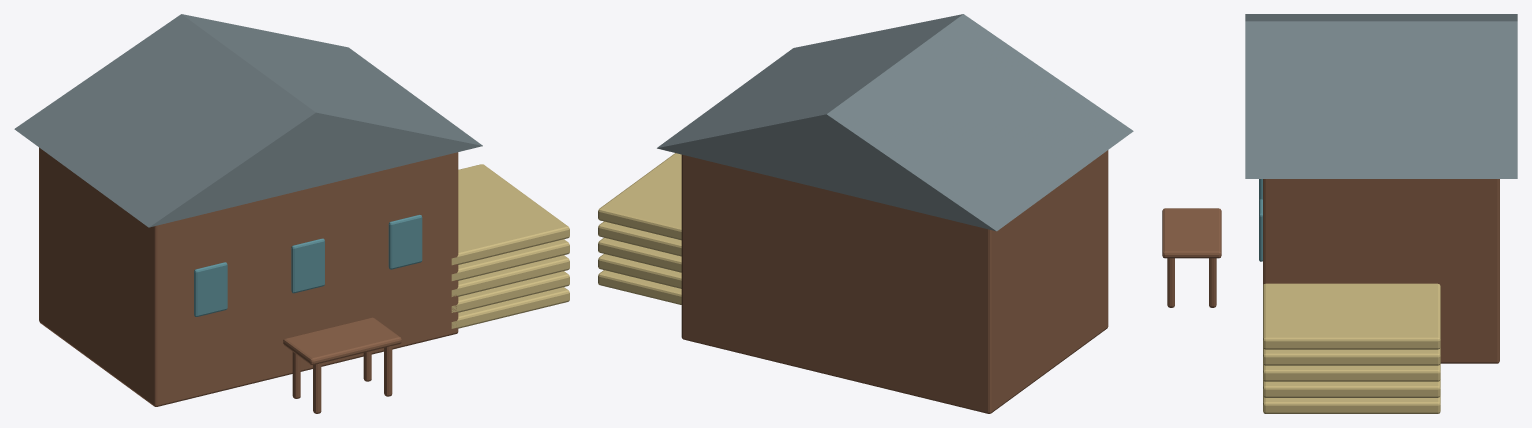
File: furniture_workshop.glb
3 renders of one model, left to right at view 1: azimuth 30°, elevation 25°; view 2: azimuth 150°, elevation 25°; view 3: azimuth 270°, elevation 25°, orthographic.
Visible parts, largest first — view 1: furniture_workshop_timber, furniture_workshop_tile, furniture_workshop_straw, furniture_workshop_glass; view 2: furniture_workshop_timber, furniture_workshop_tile, furniture_workshop_straw; view 3: furniture_workshop_tile, furniture_workshop_timber, furniture_workshop_straw, furniture_workshop_glass.
Part boxes in pixels (x1,y1,x2,y2): furniture_workshop_timber: (39, 147, 458, 413); furniture_workshop_tile: (14, 14, 482, 227); furniture_workshop_straw: (451, 164, 569, 328); furniture_workshop_glass: (194, 214, 422, 316); furniture_workshop_timber: (681, 150, 1108, 413); furniture_workshop_tile: (657, 14, 1133, 231); furniture_workshop_straw: (598, 153, 681, 304); furniture_workshop_tile: (1245, 14, 1517, 178); furniture_workshop_timber: (1162, 179, 1499, 363); furniture_workshop_straw: (1263, 283, 1440, 413); furniture_workshop_glass: (1259, 179, 1262, 261).
Size of the model in its own units: 8.5 by 5 by 6.
